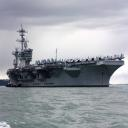Portanaves: (6, 23, 126, 89)
